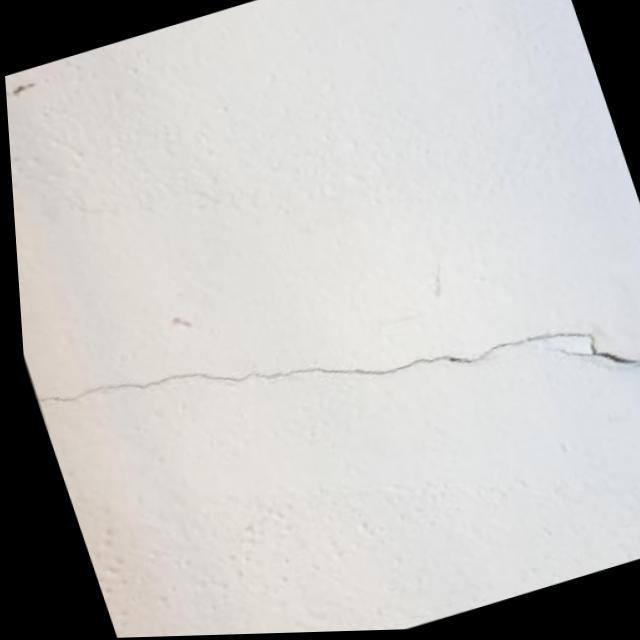Crack: (56, 327, 628, 414)
